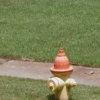Hydrant: (43, 34, 83, 100)
